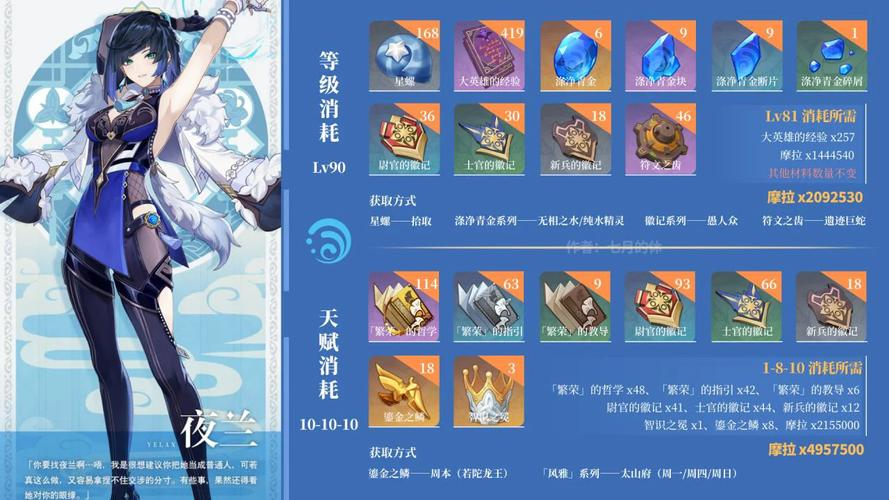夜兰: (55, 1, 271, 500)
